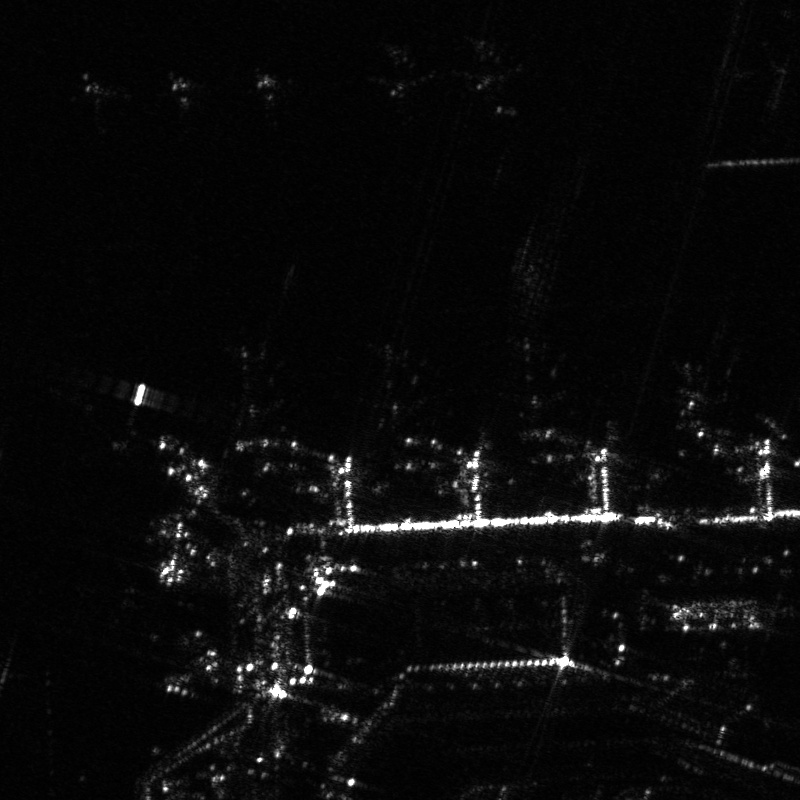A220: (345, 344, 459, 444), (448, 35, 528, 107), (151, 67, 213, 137)
A320/321: (240, 61, 298, 133)
ARJ21: (62, 64, 134, 144)
Boeing787: (491, 338, 581, 445), (653, 363, 735, 439)
other: (207, 340, 308, 456), (364, 42, 443, 117)
